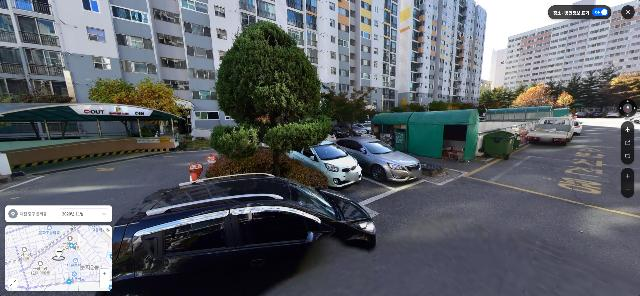other: (211, 21, 331, 177), (87, 75, 188, 137), (321, 81, 372, 135), (513, 83, 552, 107), (550, 92, 574, 108)
